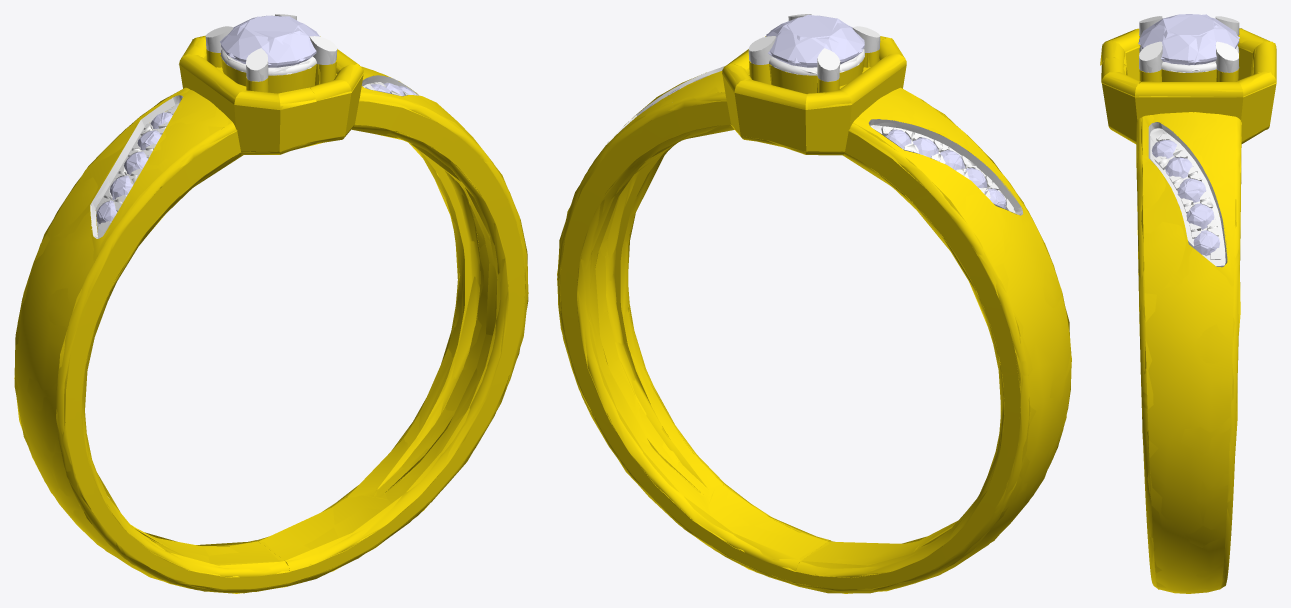
File: DGR-D000700237.glb
The picture shows the model from 3 angles, left to right: view 1: azimuth 30°, elevation 25°; view 2: azimuth 150°, elevation 25°; view 3: azimuth 270°, elevation 25°; orthographic projection.
Visible parts, largest first — view 1: highPolyMesh, lowPolyMesh; view 2: highPolyMesh, lowPolyMesh; view 3: highPolyMesh, lowPolyMesh.
Part boxes in pixels (x1,y1,x2,y2): highPolyMesh: (14, 14, 528, 593); lowPolyMesh: (14, 14, 528, 593); highPolyMesh: (557, 14, 1071, 592); lowPolyMesh: (557, 14, 1071, 593); highPolyMesh: (1101, 14, 1276, 593); lowPolyMesh: (1100, 14, 1276, 592).
Bounding box in the file's own units: 0.023 × 0.0252 × 0.0074.
